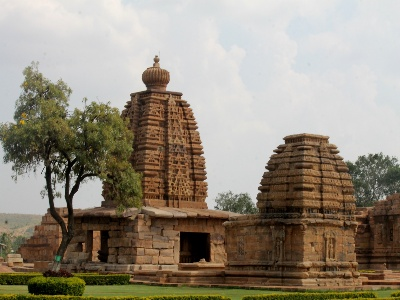amalaka: (120, 58, 180, 91)
gopuram: (108, 89, 217, 206), (256, 109, 363, 214)
